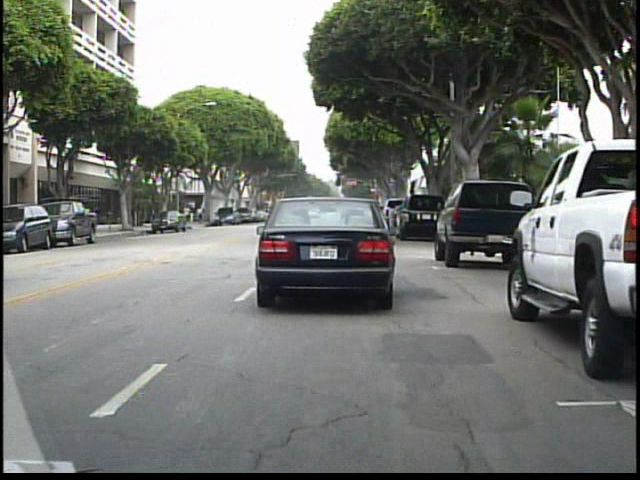person: (181, 202, 194, 227), (195, 201, 206, 226)
